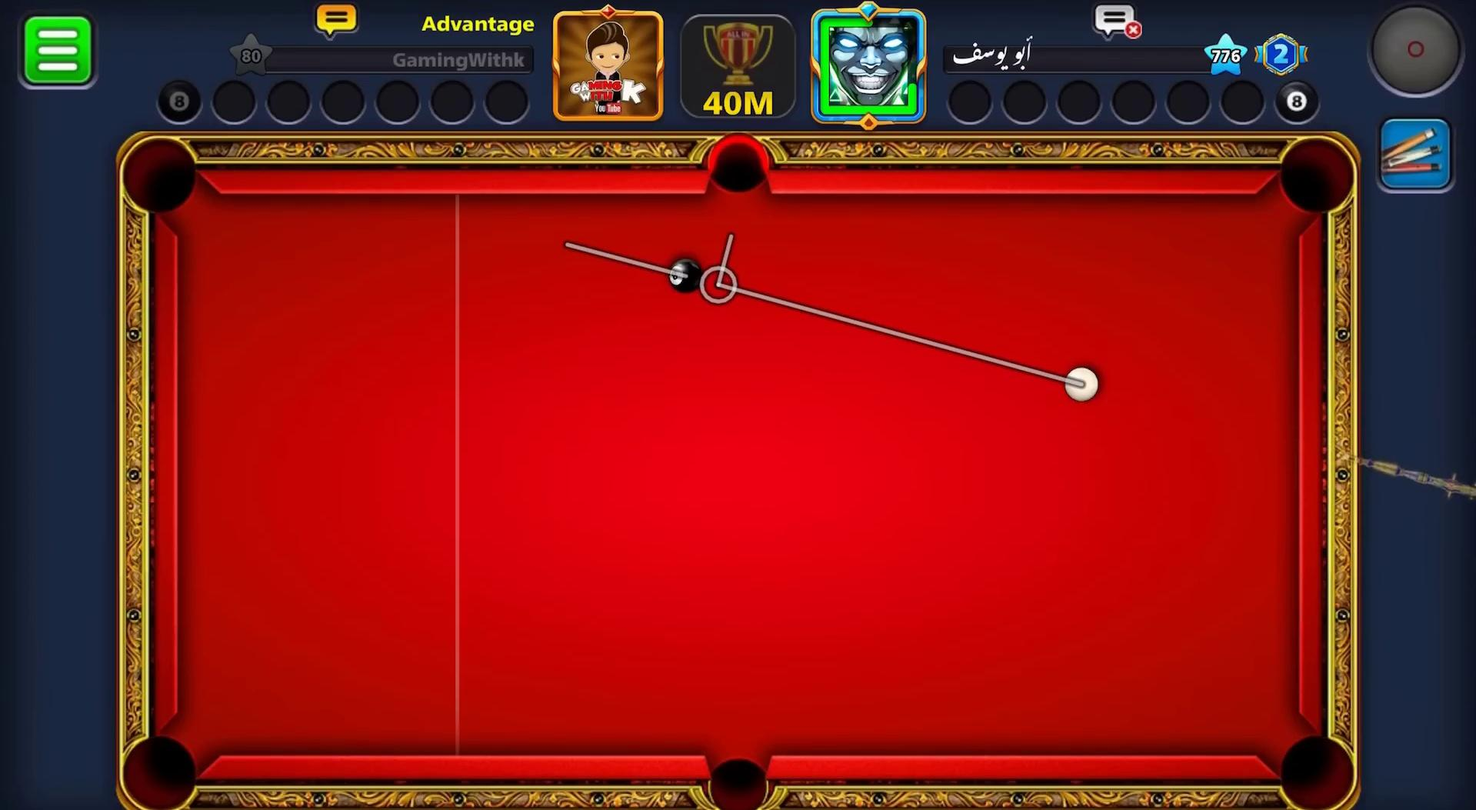Ball: (665, 256, 704, 294)
Guideline: (556, 227, 1088, 396)
Hole: (698, 128, 777, 213), (1278, 136, 1355, 216), (122, 135, 199, 214), (1278, 734, 1356, 809), (122, 733, 198, 808), (705, 755, 770, 809)
Play_Area: (176, 192, 1294, 756)
Spin: (1365, 2, 1471, 102)
White: (1060, 362, 1101, 409)
